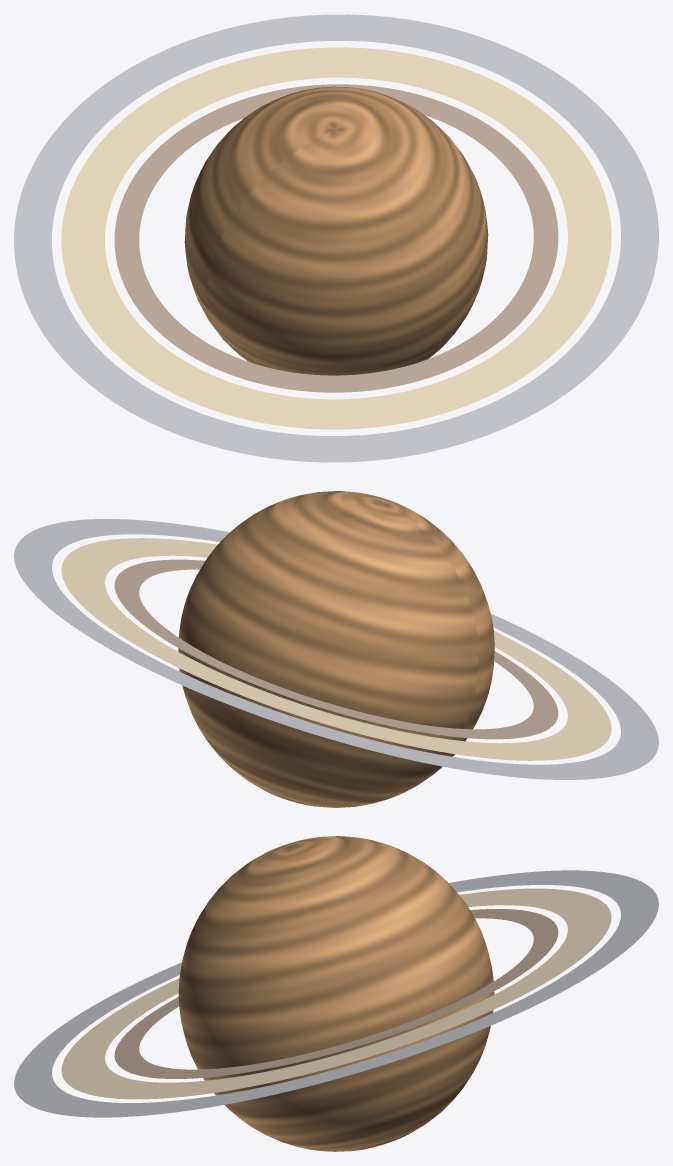
Rendered from saturn.glb.
The picture shows the model from 3 angles, top to bottom: view 1: azimuth 30°, elevation 25°; view 2: azimuth 150°, elevation 25°; view 3: azimuth 270°, elevation 25°; orthographic projection. The views are drawn at different scales.
Visible parts, largest first — view 1: Saturn | atmosphere, Ring 3, Ring 2, Ring 1; view 2: Saturn | atmosphere, Ring 3, Ring 2, Ring 1; view 3: Saturn | atmosphere, Ring 3, Ring 2, Ring 1.
Boxes of the visible parts, x1,y1,x2,y2 form: Saturn | atmosphere: (184,86,488,375); Ring 3: (14,14,658,462); Ring 2: (61,47,611,429); Ring 1: (114,84,558,392); Saturn | atmosphere: (178,491,494,807); Ring 3: (14,519,658,779); Ring 2: (61,538,611,760); Ring 1: (114,559,558,739); Saturn | atmosphere: (178,836,494,1151); Ring 3: (14,870,658,1117); Ring 2: (61,888,611,1099); Ring 1: (114,909,558,1078).
Size of the model in its own units: 3.35 by 1.6 by 3.27.
4 materials, 1 textured.
